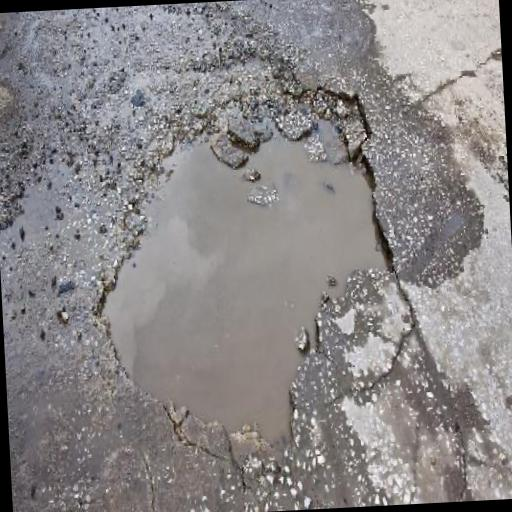pothole: (80, 78, 406, 462)
